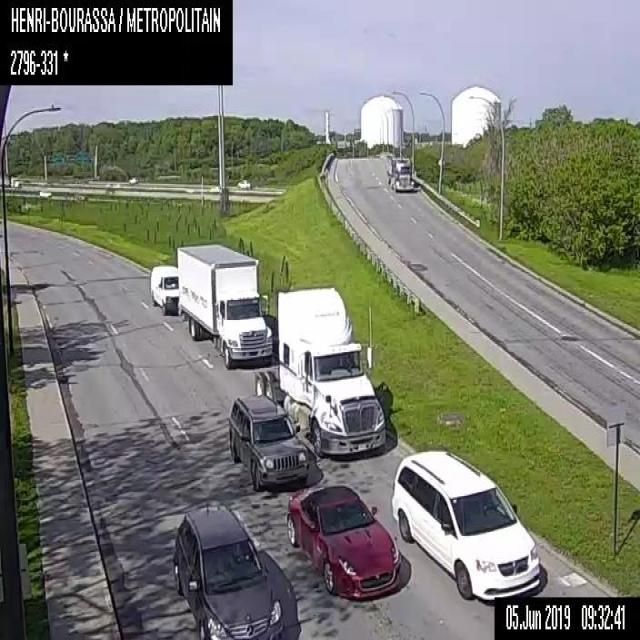vehicle: (391, 448, 539, 602), (254, 286, 386, 454), (172, 505, 284, 639), (286, 484, 400, 598), (176, 242, 271, 368), (228, 394, 308, 490), (150, 263, 178, 312), (386, 154, 414, 191), (0, 170, 21, 187), (236, 178, 250, 188), (39, 189, 51, 196), (128, 176, 138, 183)
